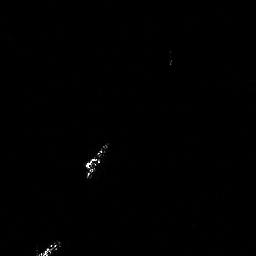ship: (84, 141, 112, 181)
